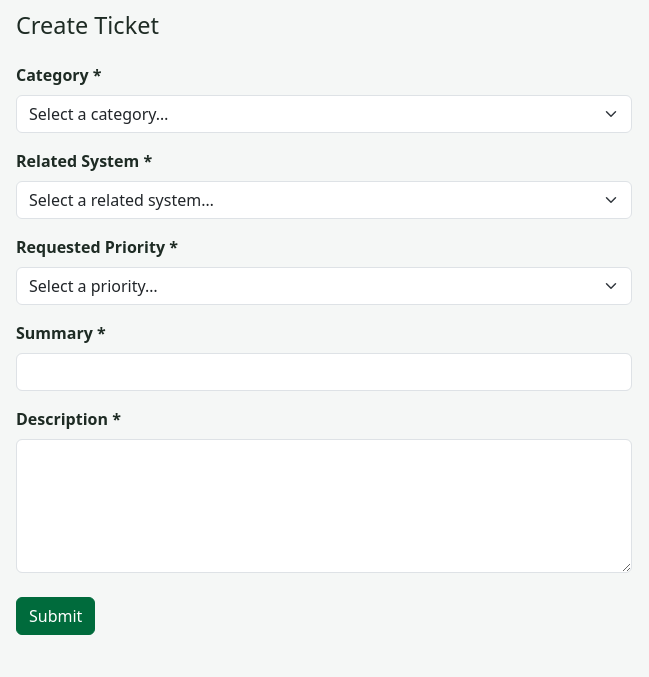
it: CreateTicket › shows field-level errors returned by the backend without losing entered values
Select "Hardware" in the dropdown labelled "Category *" at (324, 114), box left=16, top=95, right=632, bottom=133
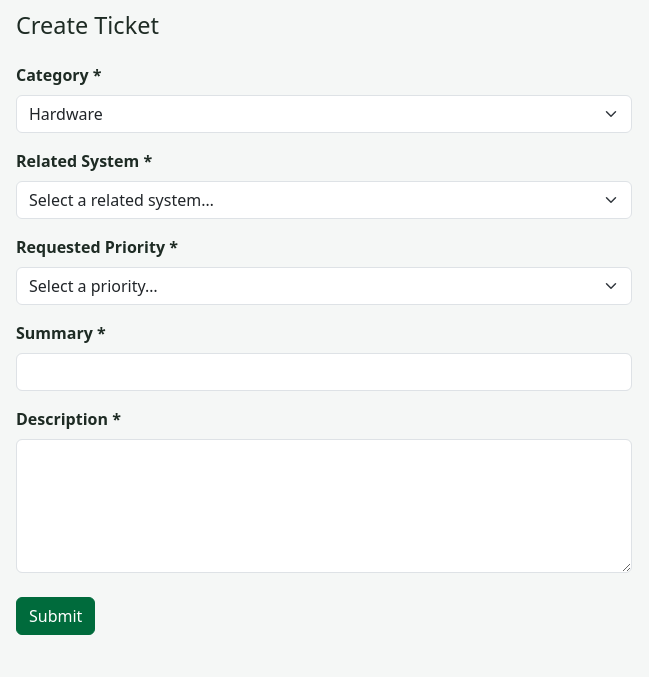
Select "Corporate Laptop" in the dropdown labelled "Related System *" at (324, 200), box left=16, top=181, right=632, bottom=219
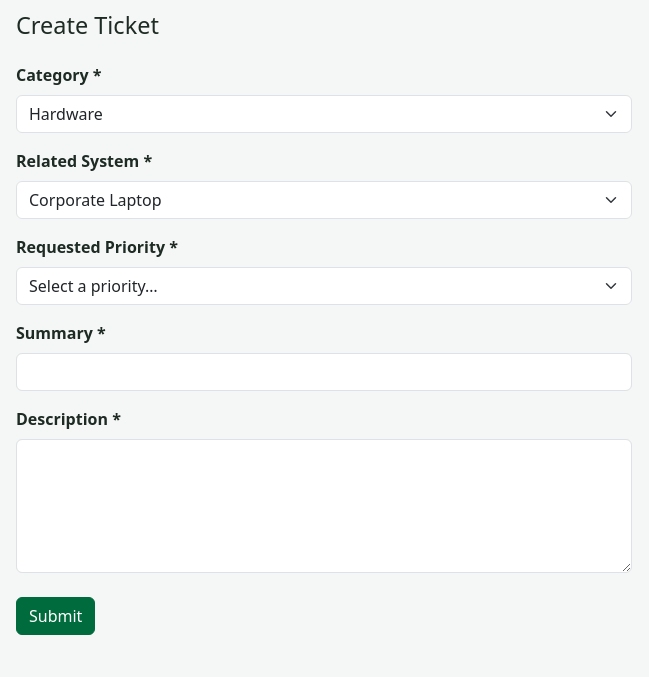
Select "Medium" in the dropdown labelled "Requested Priority *" at (324, 286), box left=16, top=267, right=632, bottom=305
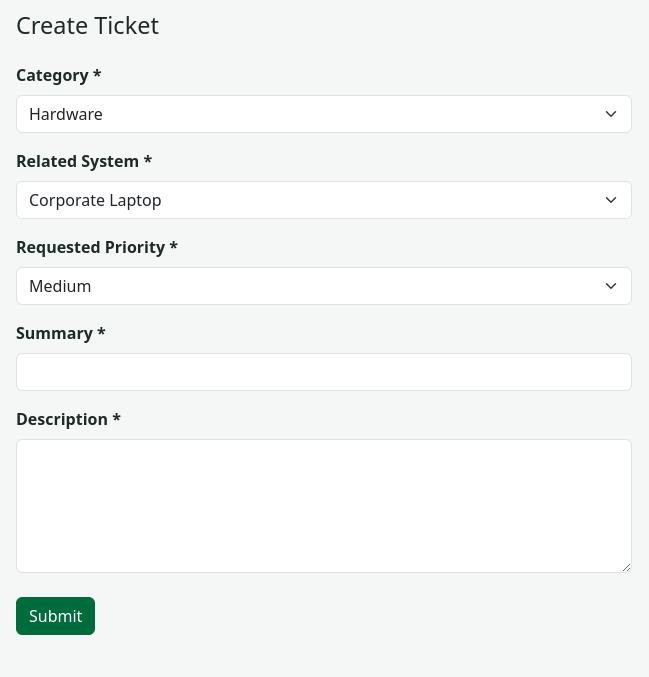
Type "Laptop battery drains quickly" into the field labelled "Summary *" at (324, 372), box left=16, top=353, right=632, bottom=391
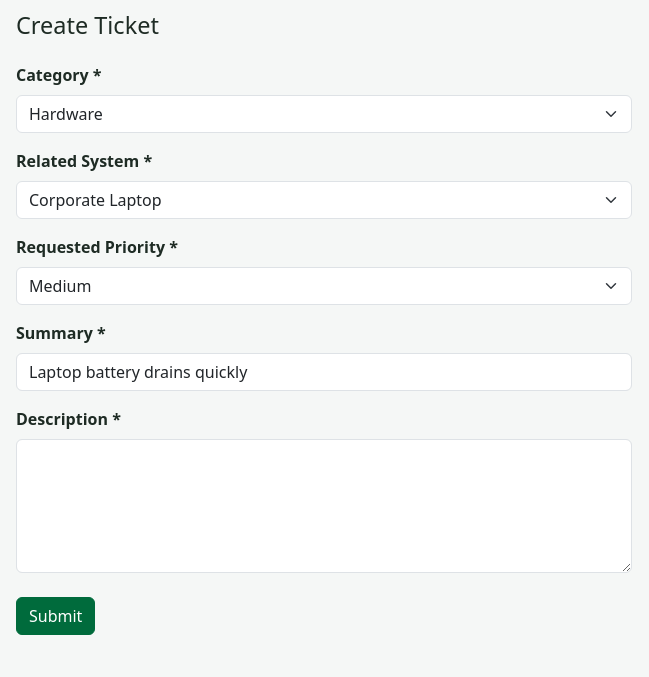
Type "Battery drains much faster than usual even when the system is idle." into the text box labelled "Description *" at (324, 506), box left=16, top=439, right=632, bottom=573
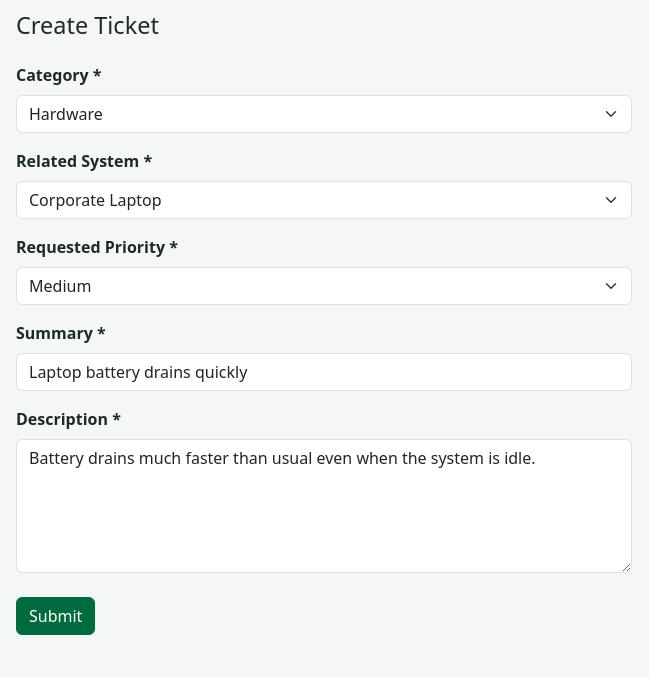
Click the button "Submit" at (56, 616), box left=16, top=597, right=95, bottom=635
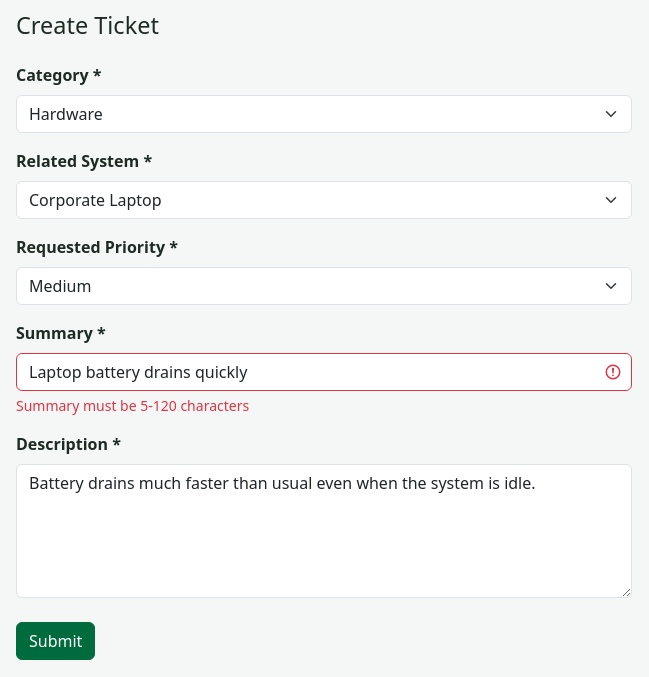
Result: the text "Summary must be 5-120 characters" is shown at left=16, top=396, right=249, bottom=415
